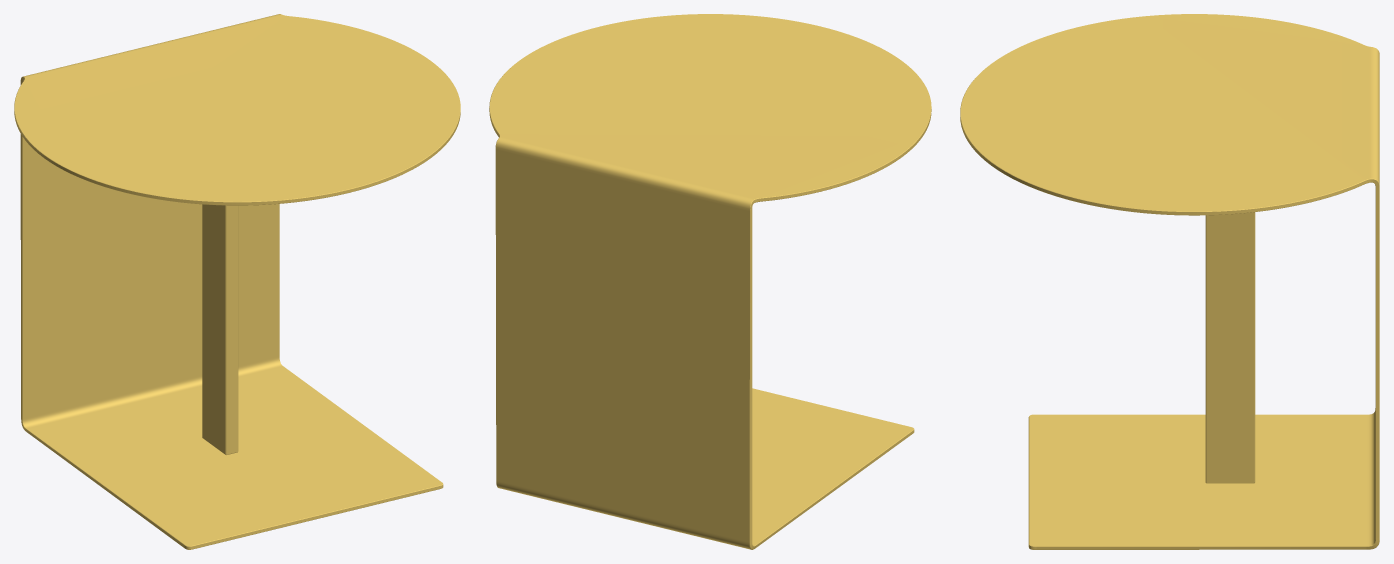
The model's file is oda_pedestal_table.gltf.
The picture shows the model from 3 angles, left to right: view 1: azimuth 30°, elevation 25°; view 2: azimuth 150°, elevation 25°; view 3: azimuth 270°, elevation 25°; orthographic projection. The views are drawn at different scales.
Visible parts, largest first — view 1: Ligne_Roset_Oda_mat1; view 2: Ligne_Roset_Oda_mat1; view 3: Ligne_Roset_Oda_mat1.
Part boxes in pixels (<box>): Ligne_Roset_Oda_mat1: <box>14,14,460,549</box>; Ligne_Roset_Oda_mat1: <box>489,14,931,549</box>; Ligne_Roset_Oda_mat1: <box>960,14,1379,549</box>.
Size of the model in its own units: 0.48 by 0.42 by 0.43.
Materials: 1 (1 with a texture image).
